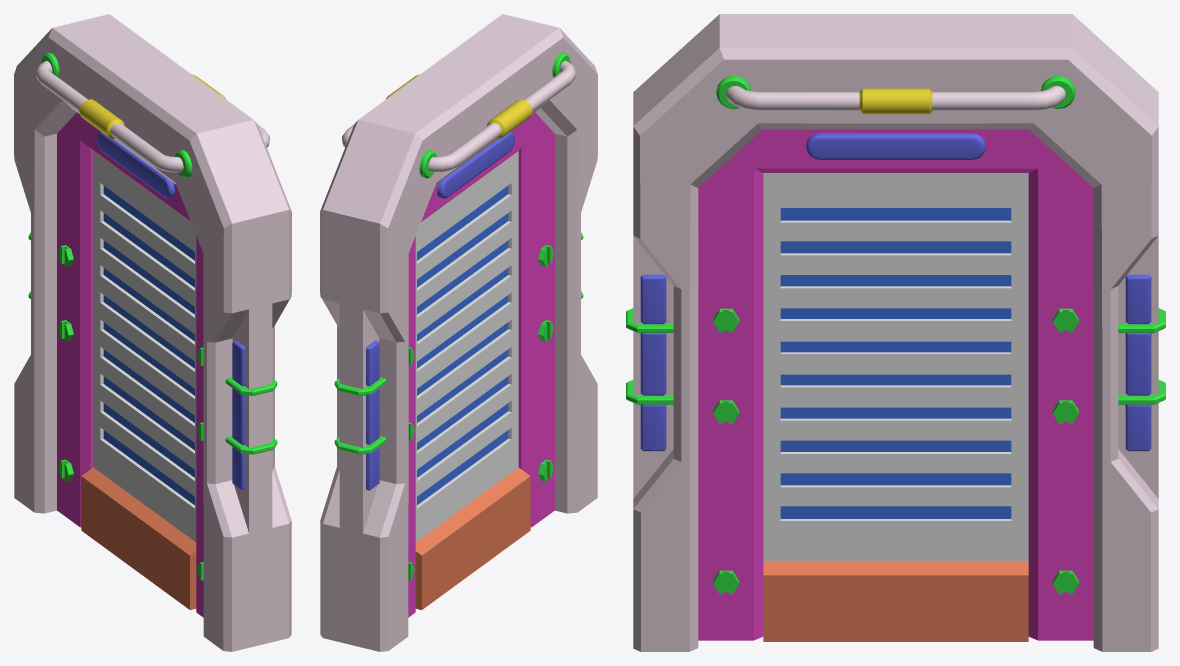
File: M_Door_new.fbx
The picture shows the model from 3 angles, left to right: view 1: azimuth 30°, elevation 25°; view 2: azimuth 150°, elevation 25°; view 3: azimuth 270°, elevation 25°; orthographic projection. The views are drawn at different scales.
Parts seen in each view (by area): view 1: Cube.002, Cube.005; view 2: Cube.002, Cube.005; view 3: Cube.002, Cube.005.
Part boxes in pixels (x1,y1,x2,y2): Cube.002: (14, 14, 291, 651); Cube.005: (81, 151, 196, 609); Cube.002: (320, 14, 597, 651); Cube.005: (415, 151, 530, 609); Cube.002: (626, 14, 1165, 651); Cube.005: (763, 173, 1028, 641).
Size of the model in its own units: 127 by 500 by 407.
